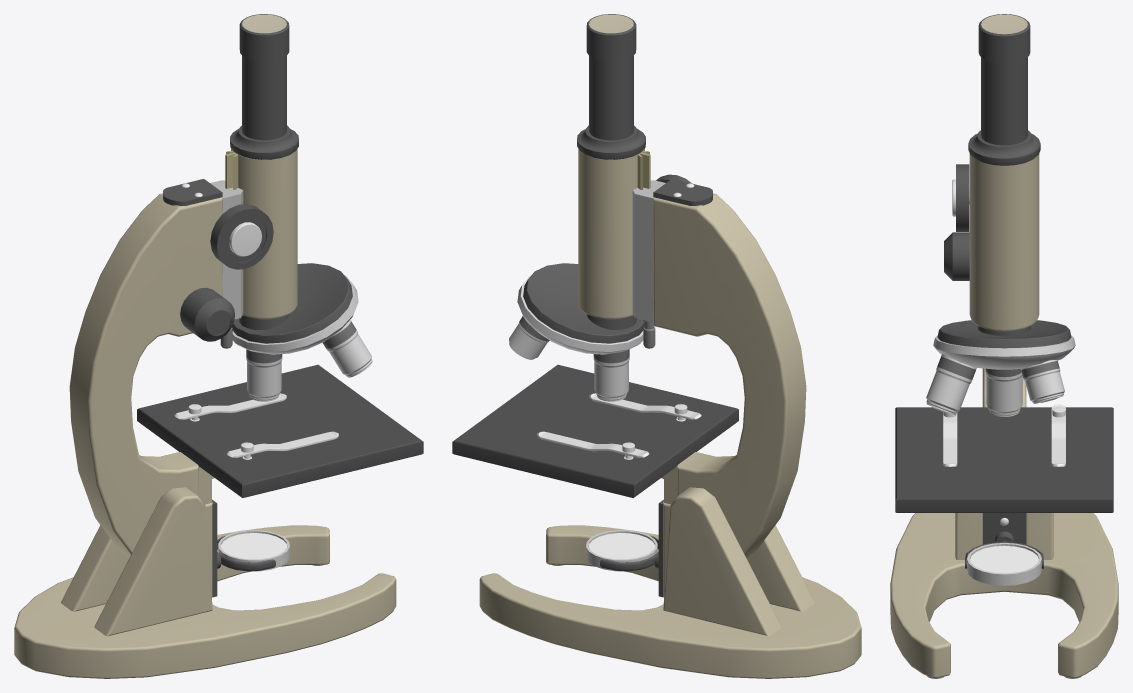
The picture shows the model from 3 angles, left to right: view 1: azimuth 30°, elevation 25°; view 2: azimuth 150°, elevation 25°; view 3: azimuth 270°, elevation 25°; orthographic projection. The views are drawn at different scales.
Visible parts, largest first — view 1: pCube20, pCube20.007, pCube20.002, pCube20.010, pCube20.001, pCube20.008, pCube20.004, pCube20.005, pCube20.011, pCube20.009; view 2: pCube20, pCube20.007, pCube20.002, pCube20.010, pCube20.008, pCube20.001, pCube20.004, pCube20.005, pCube20.009; view 3: pCube20, pCube20.007, pCube20.002, pCube20.010, pCube20.001, pCube20.004, pCube20.005, pCube20.011, pCube20.009.
Part boxes in pixels (x1,y1,x2,y2): pCube20: (14, 148, 396, 678); pCube20.007: (137, 364, 423, 497); pCube20.002: (163, 14, 352, 597); pCube20.010: (232, 275, 372, 401); pCube20.001: (174, 183, 338, 459); pCube20.008: (210, 180, 243, 319); pCube20.004: (221, 533, 286, 559); pCube20.005: (218, 530, 289, 571); pCube20.011: (246, 321, 356, 363); pCube20.009: (242, 14, 286, 33); pCube20: (479, 148, 861, 678); pCube20.007: (452, 364, 738, 497); pCube20.002: (523, 14, 712, 597); pCube20.010: (509, 275, 643, 401); pCube20.008: (632, 180, 665, 322); pCube20.001: (537, 183, 701, 459); pCube20.004: (589, 533, 654, 559); pCube20.005: (586, 530, 657, 571); pCube20.009: (589, 14, 633, 33); pCube20: (890, 154, 1118, 678); pCube20.007: (895, 407, 1113, 512); pCube20.002: (937, 14, 1071, 568); pCube20.010: (926, 335, 1075, 416); pCube20.001: (943, 179, 1065, 525); pCube20.004: (970, 545, 1038, 573); pCube20.005: (967, 543, 1041, 585); pCube20.011: (937, 356, 1059, 379); pCube20.009: (981, 14, 1055, 402).
Bounding box in the file's own units: 1.26 × 2 × 0.682.
